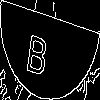B: (25, 24, 51, 77)
